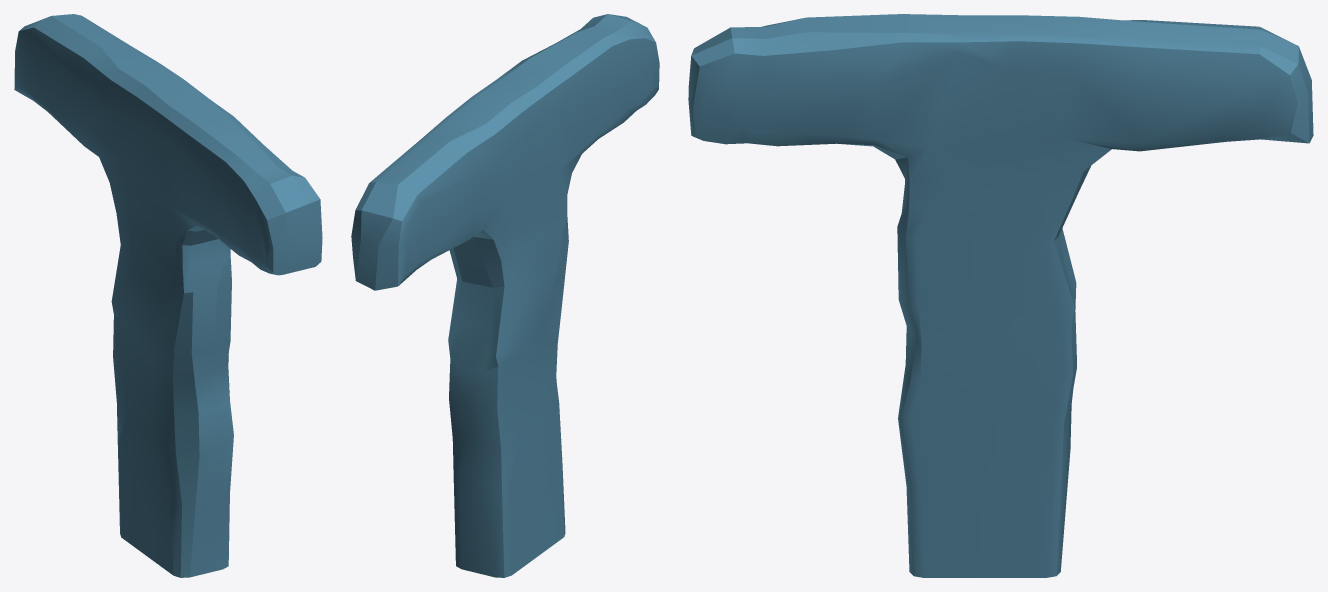
File: GJ_Decor_Wall_05.fbx
3 renders of one model, left to right at view 1: azimuth 30°, elevation 25°; view 2: azimuth 150°, elevation 25°; view 3: azimuth 270°, elevation 25°, orthographic. The views are drawn at different scales.
Visible parts, largest first — view 1: GJ_Decor_Wall_05; view 2: GJ_Decor_Wall_05; view 3: GJ_Decor_Wall_05.
Boxes of the visible parts, x1,y1,x2,y2 form: GJ_Decor_Wall_05: [14, 14, 322, 577]; GJ_Decor_Wall_05: [351, 14, 659, 577]; GJ_Decor_Wall_05: [688, 14, 1313, 577].
Size of the model in its own units: 3.76 by 24.05 by 25.28.
